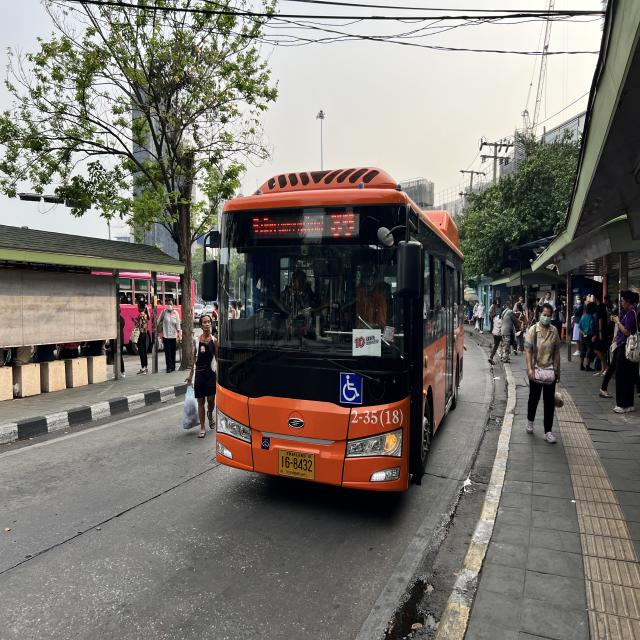Bus-Line-Number: (326, 210, 360, 239)
Destination-Sign-Normal: (249, 211, 327, 240)
TSB-Bus: (213, 169, 465, 497)
